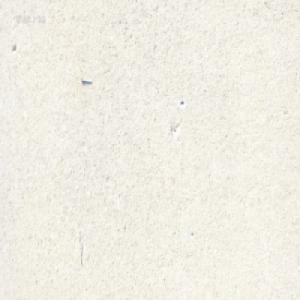Nail: (79, 75, 92, 83)
